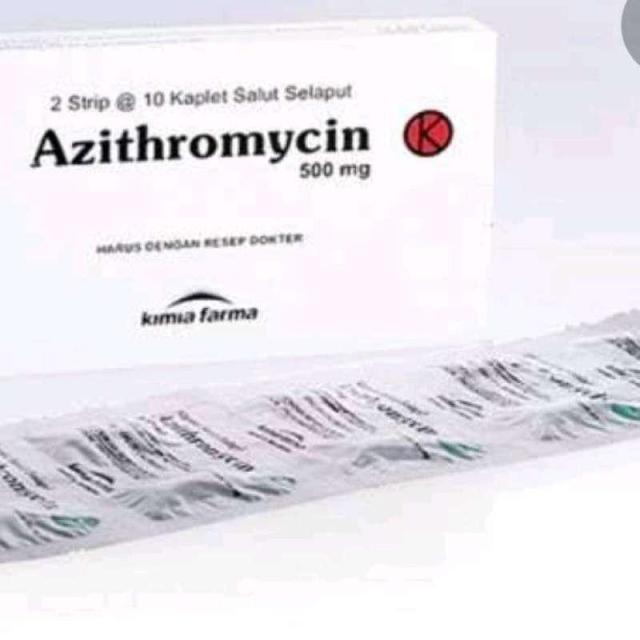drug-name: (16, 114, 386, 174)
